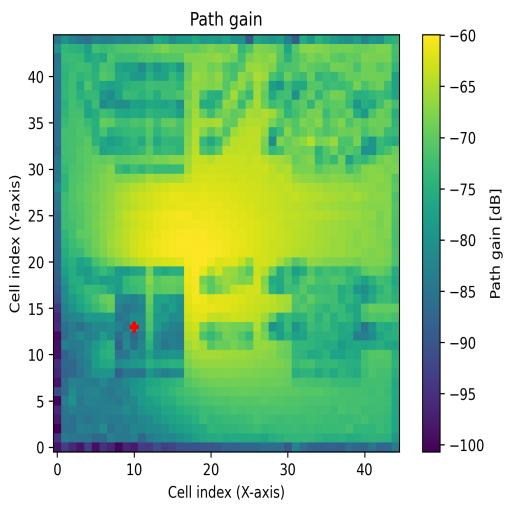Concrete: (292, 61, 362, 175)
Glass: (116, 63, 184, 174)
Metal: (292, 256, 362, 378)
Wood: (115, 267, 184, 379)
